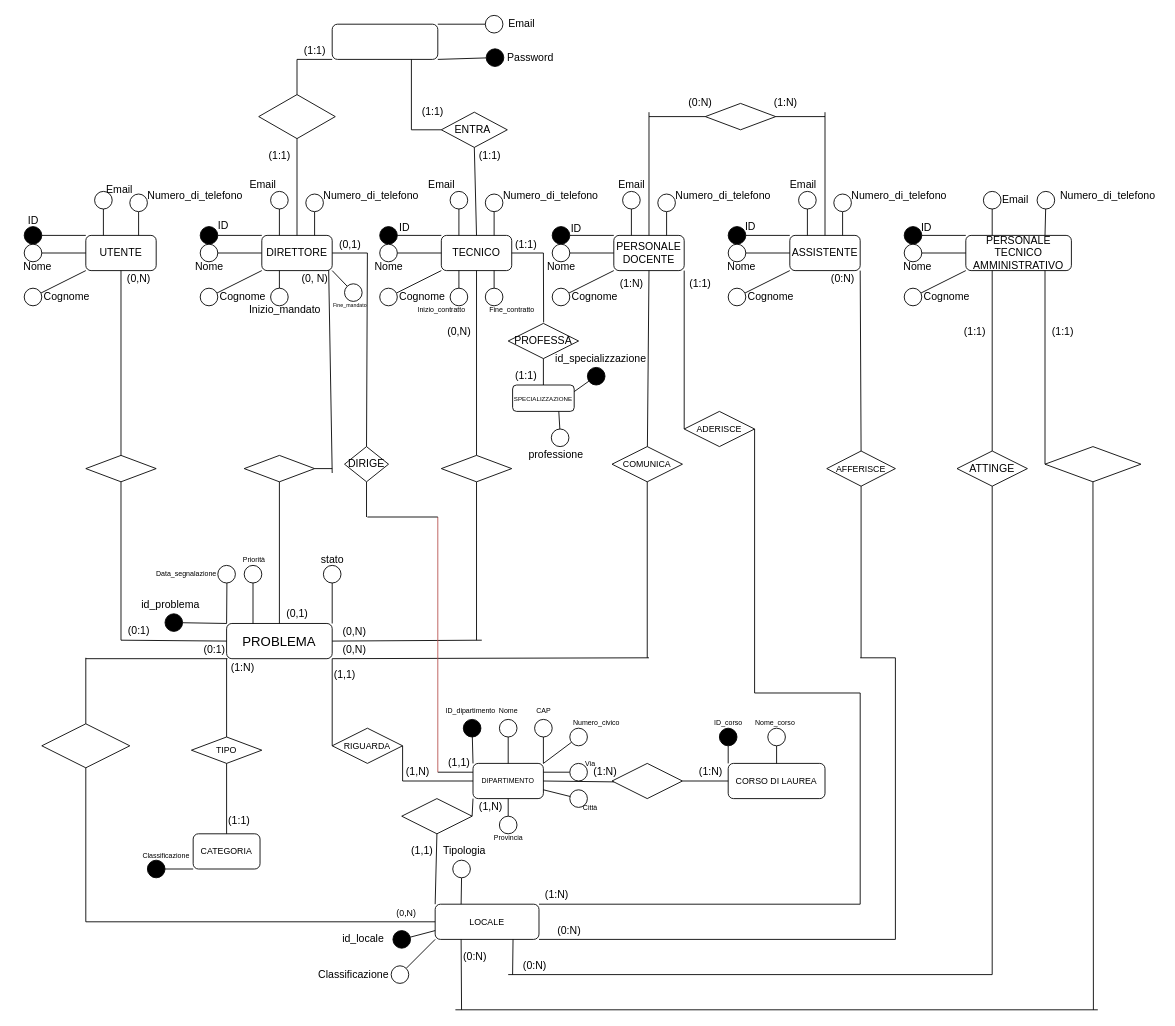
Some shapes in this 1175 by 1026 pixel diagram are drawn without their labels. Each missing label, with the box of its shape:
ACCEDE: (258, 94, 335, 139)
APPARTIENE: (611, 763, 682, 799)
ASSEGNA: (243, 455, 315, 482)
ASSISTE: (704, 103, 776, 130)
COMPOSTO: (401, 798, 472, 834)
CREDENZIALI: (331, 23, 438, 59)
GESTISCONO: (1044, 446, 1141, 482)
LOCALIZZATO: (41, 723, 130, 768)
RISOLVE: (440, 455, 512, 482)
SEGNALA: (85, 455, 156, 482)
